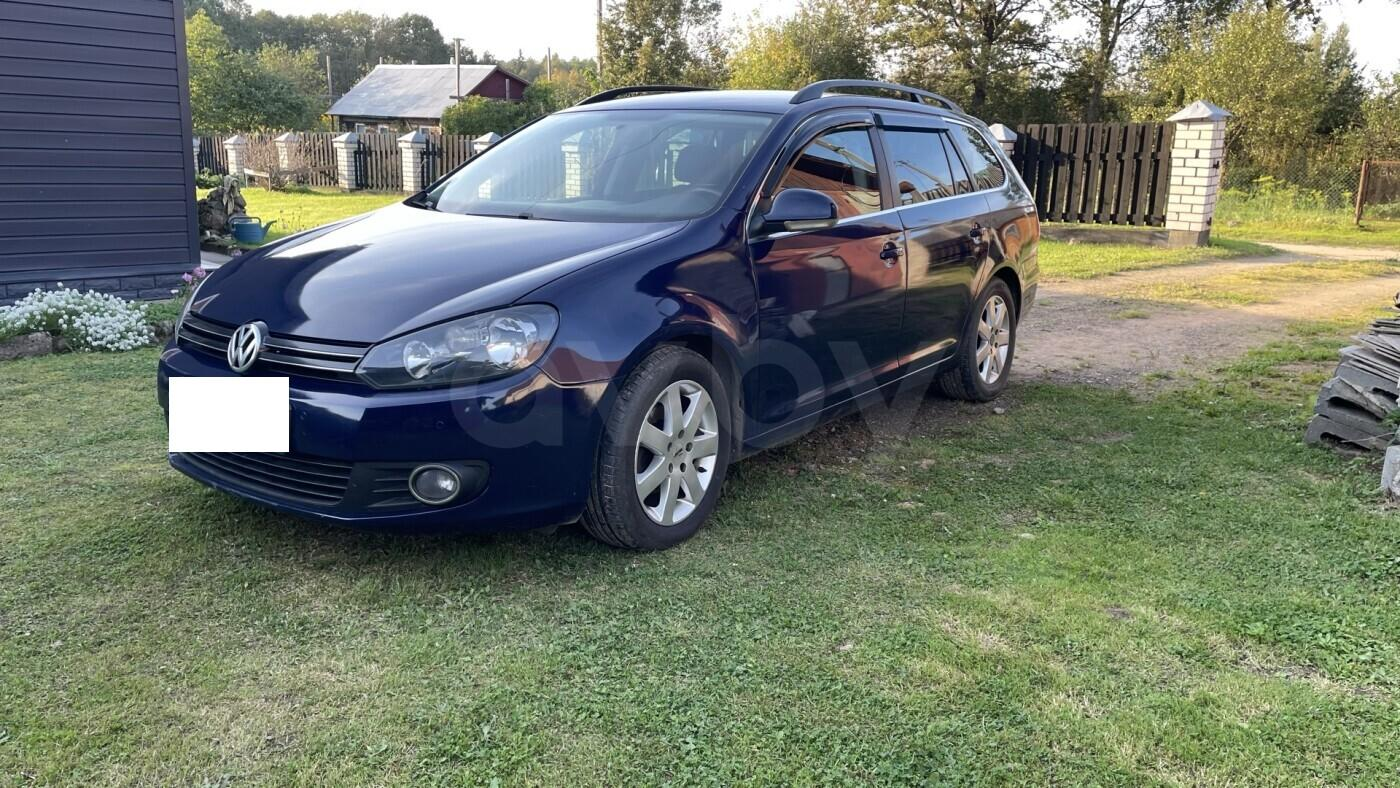Golf_2008-2013: (157, 82, 1045, 561)
